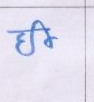i_matra: (34, 20, 55, 48)
